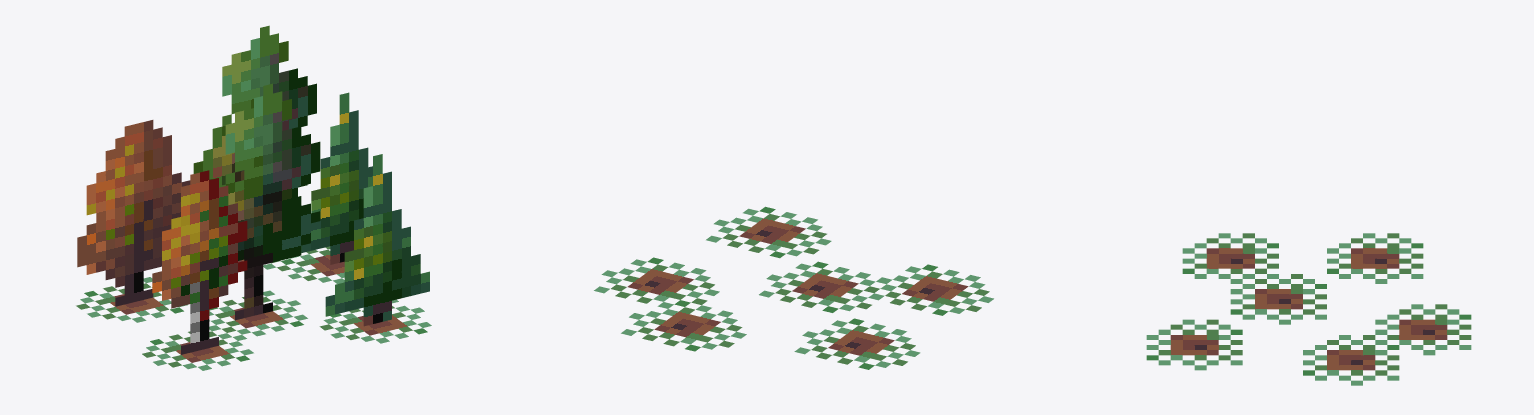
The model's file is tree_bill2.gltf.
3 views of the same model, side by side, from view 1: azimuth 30°, elevation 25°; view 2: azimuth 150°, elevation 25°; view 3: azimuth 270°, elevation 25° (orthographic). The views are drawn at different scales.
Parts seen in each view (by area): view 1: plane (×7); view 2: plane; view 3: plane.
Part boxes in pixels (x1=…): plane (×7): x1=76, y1=25, x2=431, y2=370; plane: x1=594, y1=206, x2=993, y2=369; plane: x1=1146, y1=233, x2=1471, y2=385.
Bounding box in the file's own units: 2.25 × 1.44 × 2.19.
2 materials, 2 textured.
